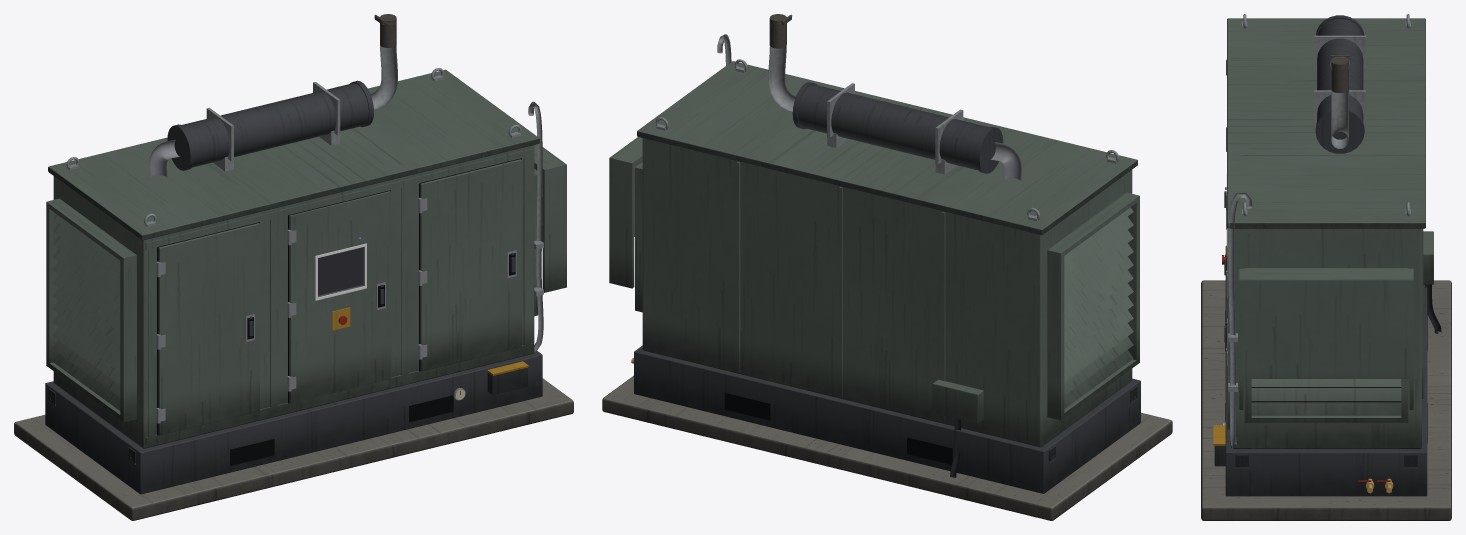
File: generator_enclosure.glb
3 renders of one model, left to right at view 1: azimuth 30°, elevation 25°; view 2: azimuth 150°, elevation 25°; view 3: azimuth 270°, elevation 25°, orthographic. The views are drawn at different scales.
Parts seen in each view (by area): view 1: part_body_LOD0, part_base_tank_LOD0, part_door_1_LOD0, part_door_3_LOD0, part_door_2_LOD0, part_louvre_in_LOD0, part_pad_LOD0, part_silencer_LOD0, part_louvre_out_LOD0, part_fuel_LOD0, part_window_LOD0; view 2: part_body_LOD0, part_base_tank_LOD0, part_louvre_in_LOD0, part_pad_LOD0, part_silencer_LOD0, part_louvre_out_LOD0; view 3: part_body_LOD0, part_louvre_out_LOD0, part_pad_LOD0, part_base_tank_LOD0, part_silencer_LOD0, part_fuel_LOD0, part_door_3_LOD0.
Boxes of the visible parts, bbox=[...] form: part_body_LOD0: bbox=[48, 68, 539, 448]; part_base_tank_LOD0: bbox=[45, 351, 542, 494]; part_door_1_LOD0: bbox=[156, 223, 259, 435]; part_door_3_LOD0: bbox=[418, 159, 521, 371]; part_door_2_LOD0: bbox=[287, 191, 391, 403]; part_louvre_in_LOD0: bbox=[46, 198, 136, 422]; part_pad_LOD0: bbox=[14, 378, 573, 520]; part_silencer_LOD0: bbox=[149, 14, 397, 177]; part_louvre_out_LOD0: bbox=[534, 144, 566, 316]; part_fuel_LOD0: bbox=[453, 101, 543, 400]; part_window_LOD0: bbox=[318, 247, 363, 296]; part_body_LOD0: bbox=[637, 59, 1137, 477]; part_base_tank_LOD0: bbox=[634, 345, 1140, 493]; part_louvre_in_LOD0: bbox=[1047, 192, 1139, 420]; part_pad_LOD0: bbox=[602, 375, 1172, 520]; part_silencer_LOD0: bbox=[768, 14, 1021, 180]; part_louvre_out_LOD0: bbox=[609, 137, 642, 312]; part_body_LOD0: bbox=[1227, 14, 1441, 448]; part_louvre_out_LOD0: bbox=[1239, 268, 1413, 422]; part_pad_LOD0: bbox=[1201, 280, 1451, 520]; part_base_tank_LOD0: bbox=[1225, 245, 1427, 496]; part_silencer_LOD0: bbox=[1314, 15, 1365, 153]; part_fuel_LOD0: bbox=[1213, 192, 1393, 493]; part_door_3_LOD0: bbox=[1224, 194, 1229, 429].
Size of what is drawn, in the model's own units: 4.05 by 3.24 by 1.84.
18 materials, 14 textured.
